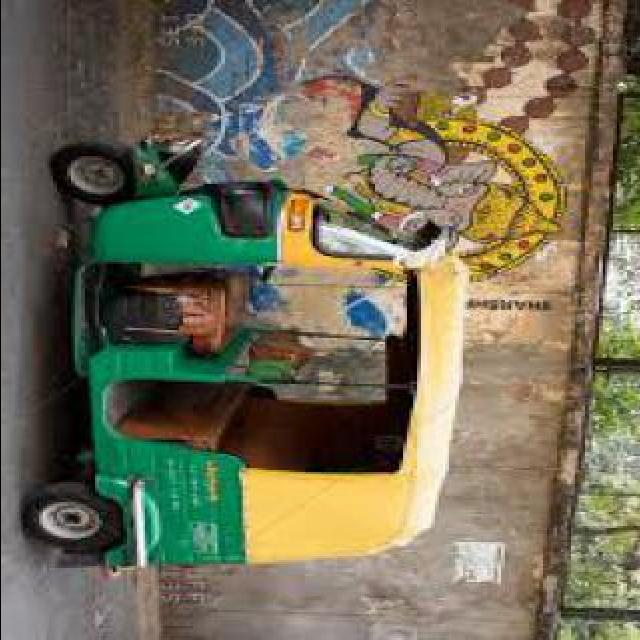Autorickshaw: (24, 140, 476, 578)
